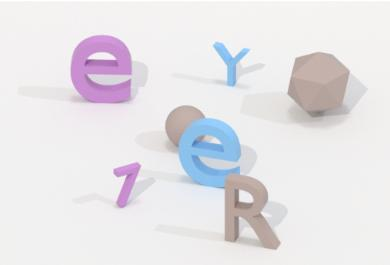0-TronCanh: (284, 49, 354, 118)
7: (110, 157, 145, 212)
R: (223, 169, 282, 252)
Y: (207, 37, 254, 91)
e: (65, 32, 138, 110), (177, 117, 243, 190)
